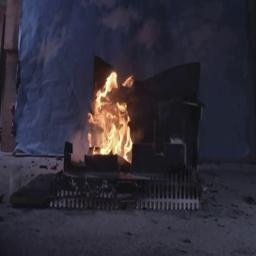fire: (81, 58, 143, 167)
